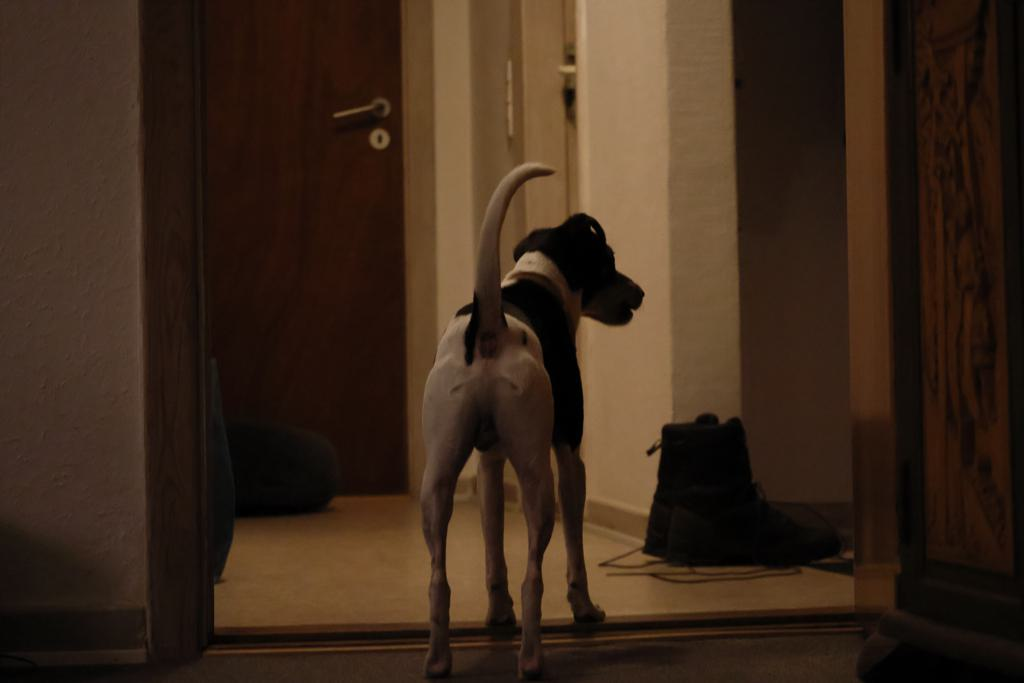Dog: (405, 153, 652, 683)
